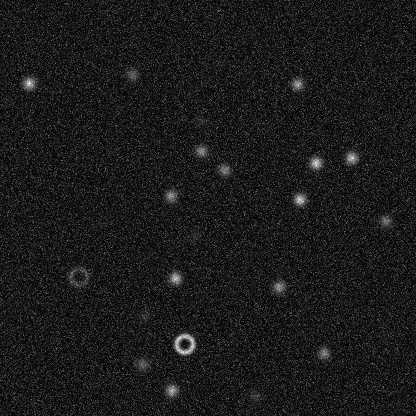Ring: (172, 331, 196, 355), (66, 264, 90, 288)
Spot: (191, 112, 207, 128), (167, 270, 183, 286), (163, 382, 179, 398), (134, 356, 150, 372), (307, 155, 323, 171), (291, 191, 307, 207), (20, 75, 36, 91), (136, 307, 152, 323), (162, 187, 178, 203), (377, 212, 393, 228), (216, 161, 232, 177), (270, 278, 286, 294), (124, 66, 140, 82), (289, 76, 305, 92), (247, 387, 263, 403), (343, 149, 359, 165), (186, 226, 202, 242), (315, 345, 331, 361), (193, 143, 209, 159)
